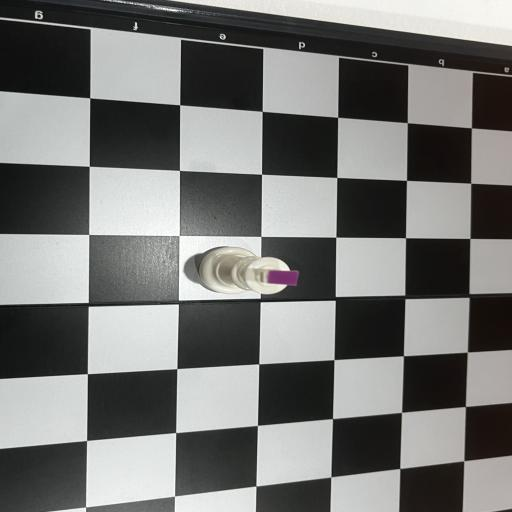White king: (199, 247, 299, 294)
